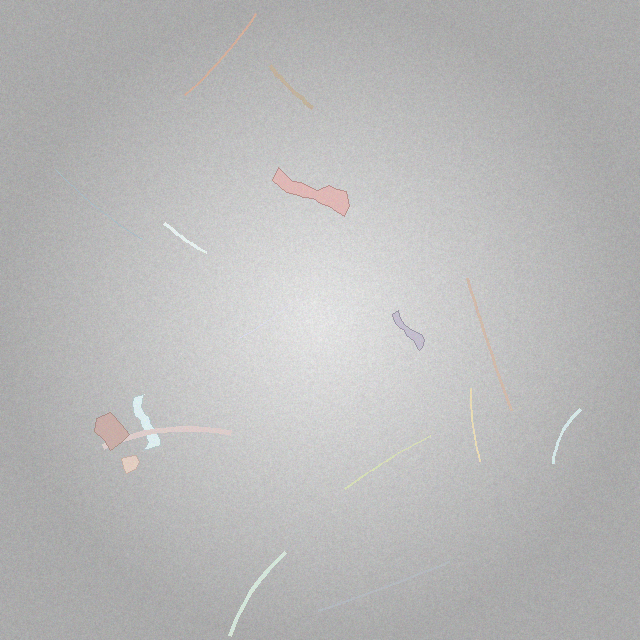fiber: (315, 558, 454, 615), (464, 275, 515, 414), (54, 167, 144, 242), (182, 12, 258, 98), (225, 548, 290, 639), (342, 434, 433, 492), (97, 423, 237, 453), (265, 61, 317, 112), (237, 300, 295, 340), (550, 407, 583, 467), (162, 220, 210, 256), (468, 386, 482, 464)
film: (272, 167, 349, 216), (133, 395, 161, 450), (392, 310, 425, 350)
fragment: (95, 413, 129, 450), (122, 455, 139, 473)
